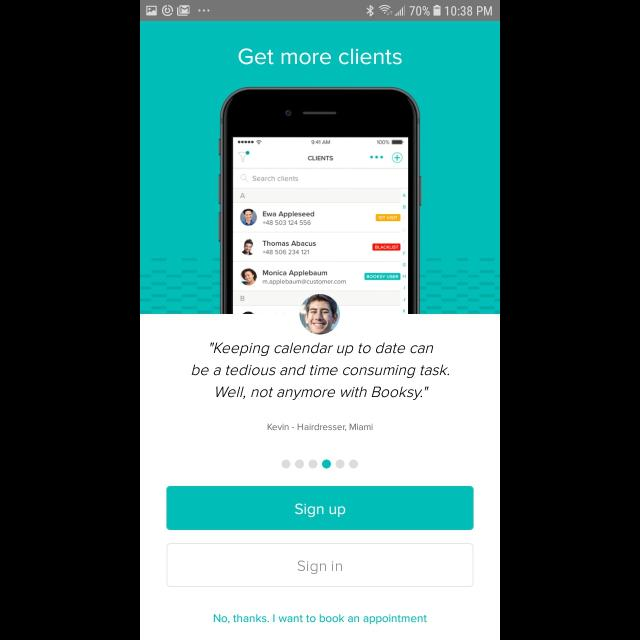image: (218, 88, 422, 314), (300, 294, 340, 334)
pageindicator: (282, 459, 358, 469)
text: (191, 343, 449, 401), (238, 48, 402, 64), (214, 614, 426, 624), (268, 423, 372, 432)
textbutton: (166, 486, 474, 530), (167, 543, 473, 587)
uppertaskbar: (140, 1, 500, 22)
